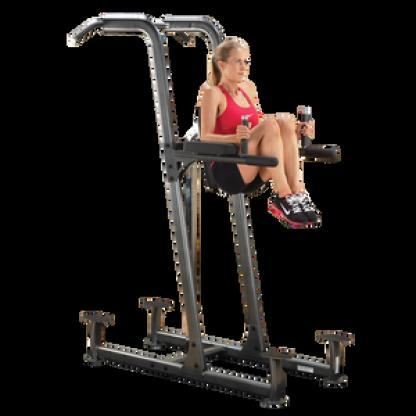chinning dipping: (68, 12, 358, 409)
